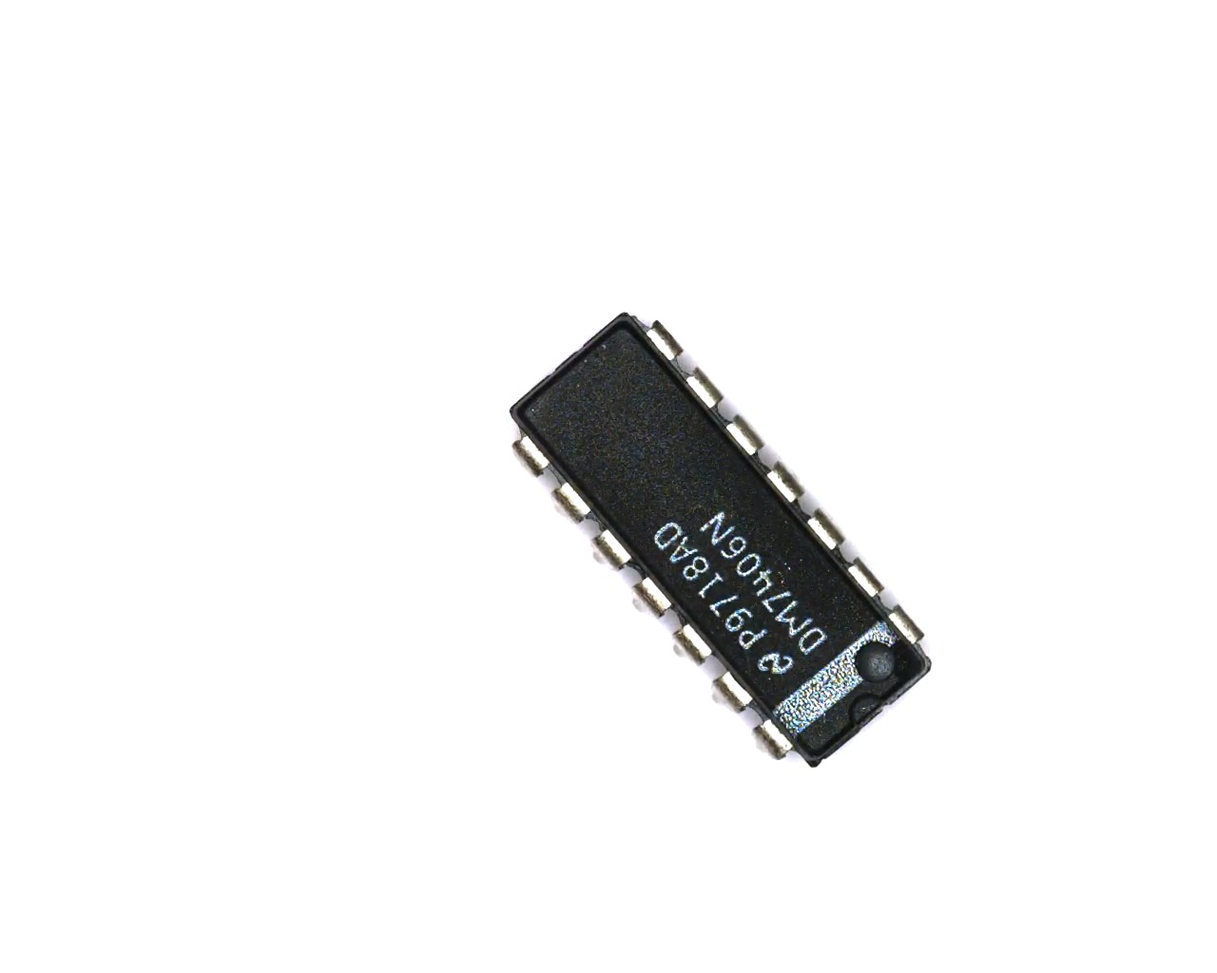IC: (465, 280, 970, 805)
notch: (848, 690, 890, 732)
